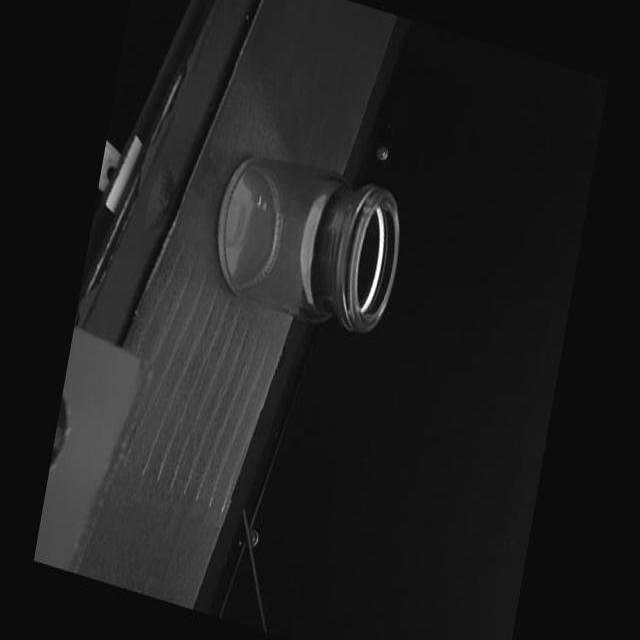defect: (360, 196, 375, 217)
glass: (208, 141, 408, 343)
